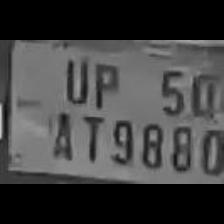0: (186, 66, 218, 118), (194, 120, 222, 177)
5: (155, 64, 187, 116)
8: (137, 117, 165, 172), (167, 120, 195, 174)
9: (106, 114, 134, 168)
A: (46, 106, 76, 160)
P: (88, 57, 120, 107)
T: (76, 111, 102, 163)
U: (57, 54, 89, 104)
